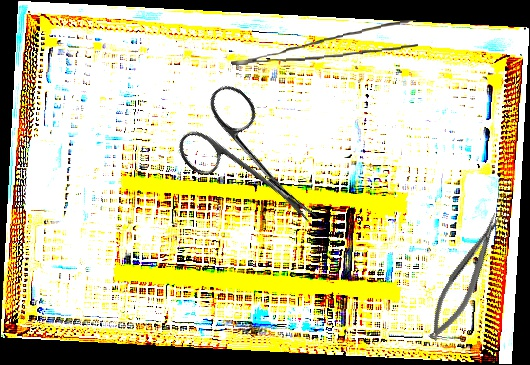Iris Scissors: (166, 78, 346, 253)
Needle Holder: (418, 209, 514, 346)
Tissue Forceps: (229, 19, 419, 66)
